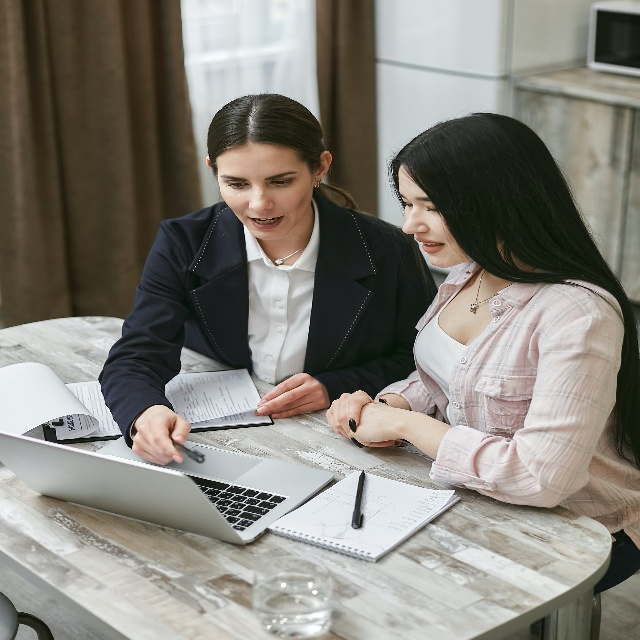Sin_guantes: (131, 406, 192, 467), (254, 372, 331, 419), (325, 386, 376, 449), (350, 397, 412, 448)
